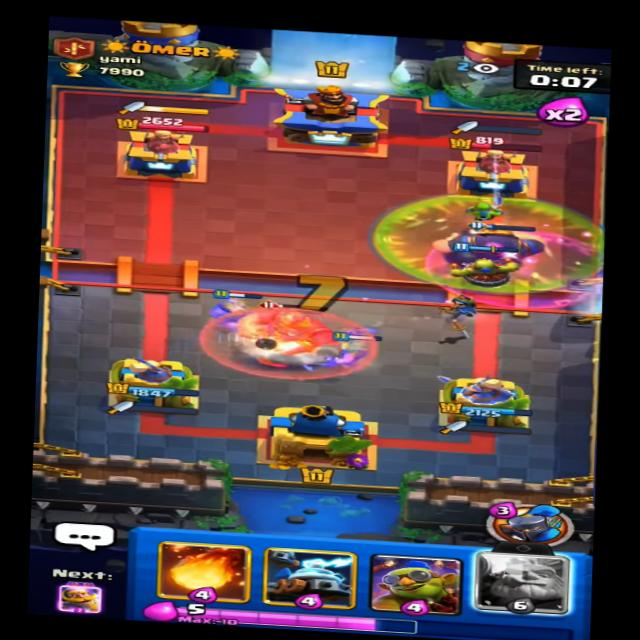Evoroyalgiant: (221, 296, 353, 364)
